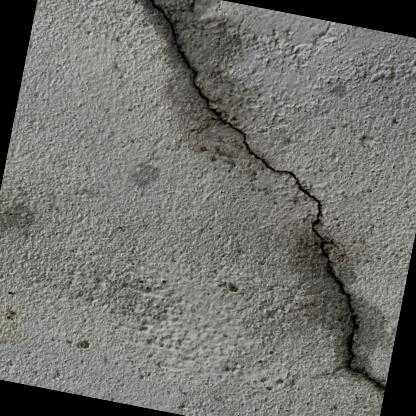crack: (151, 0, 385, 389)
